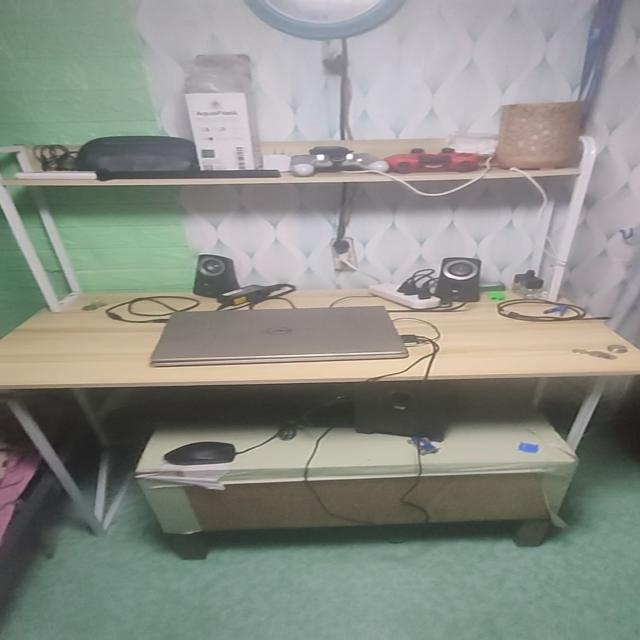table: (0, 270, 616, 548)
